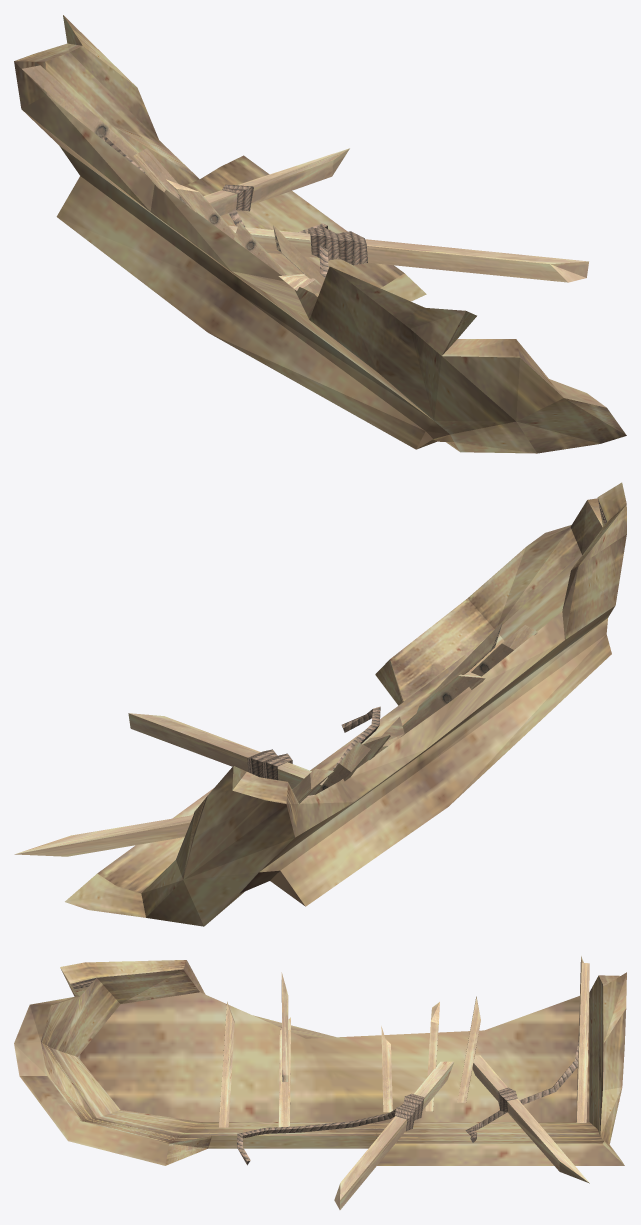
File: C3SMWBOATA_H.obj
The picture shows the model from 3 angles, top to bottom: view 1: azimuth 30°, elevation 25°; view 2: azimuth 150°, elevation 25°; view 3: azimuth 270°, elevation 25°; orthographic projection. The views are drawn at different scales.
Parts seen in each view (by area): view 1: Node 0; view 2: Node 0; view 3: Node 0.
Boxes of the visible parts, x1=… form: Node 0: x1=14, y1=15, x2=626, y2=453; Node 0: x1=14, y1=482, x2=626, y2=926; Node 0: x1=14, y1=956, x2=626, y2=1209.
Size of the model in its own units: 8.22 by 4.15 by 16.
Materials: 2 (2 with a texture image).
